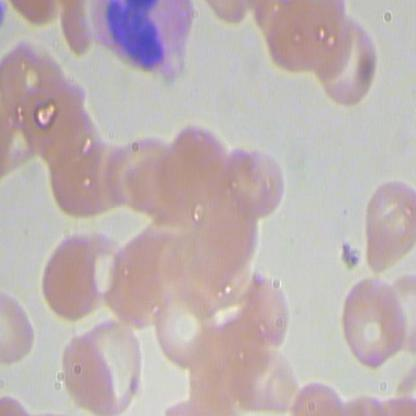Platelets: (88, 1, 196, 101)
RBC: (306, 10, 385, 112), (338, 270, 411, 373), (38, 225, 111, 325), (147, 277, 221, 372), (218, 137, 288, 222), (55, 328, 124, 414), (359, 173, 415, 276), (244, 268, 294, 352), (1, 284, 38, 374)
